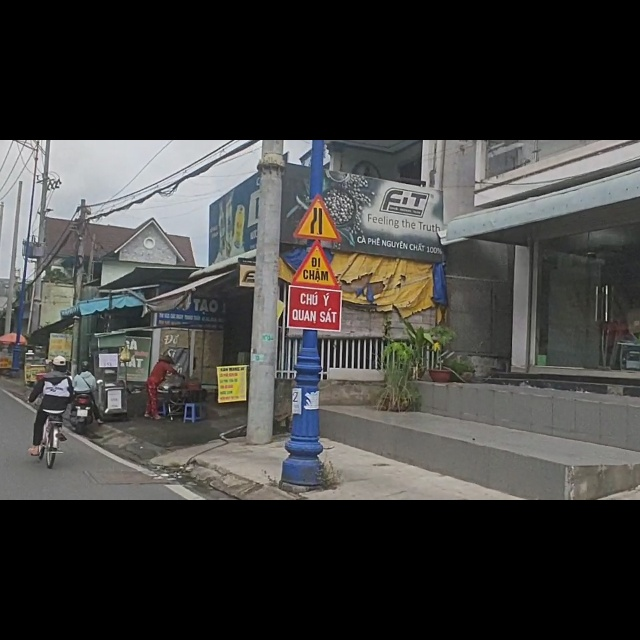Đi chậm: (290, 239, 339, 290)
Đường bị hẹp bên trái: (292, 195, 340, 243)
